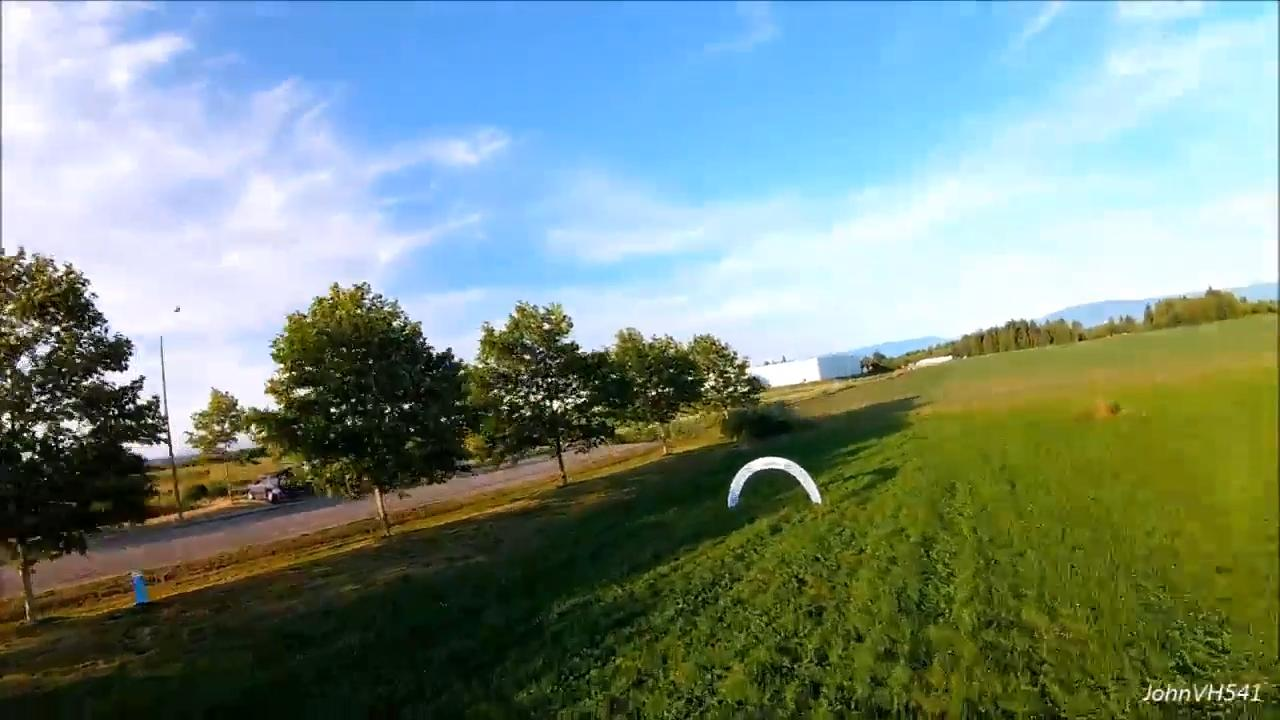gate: (725, 455, 824, 508)
